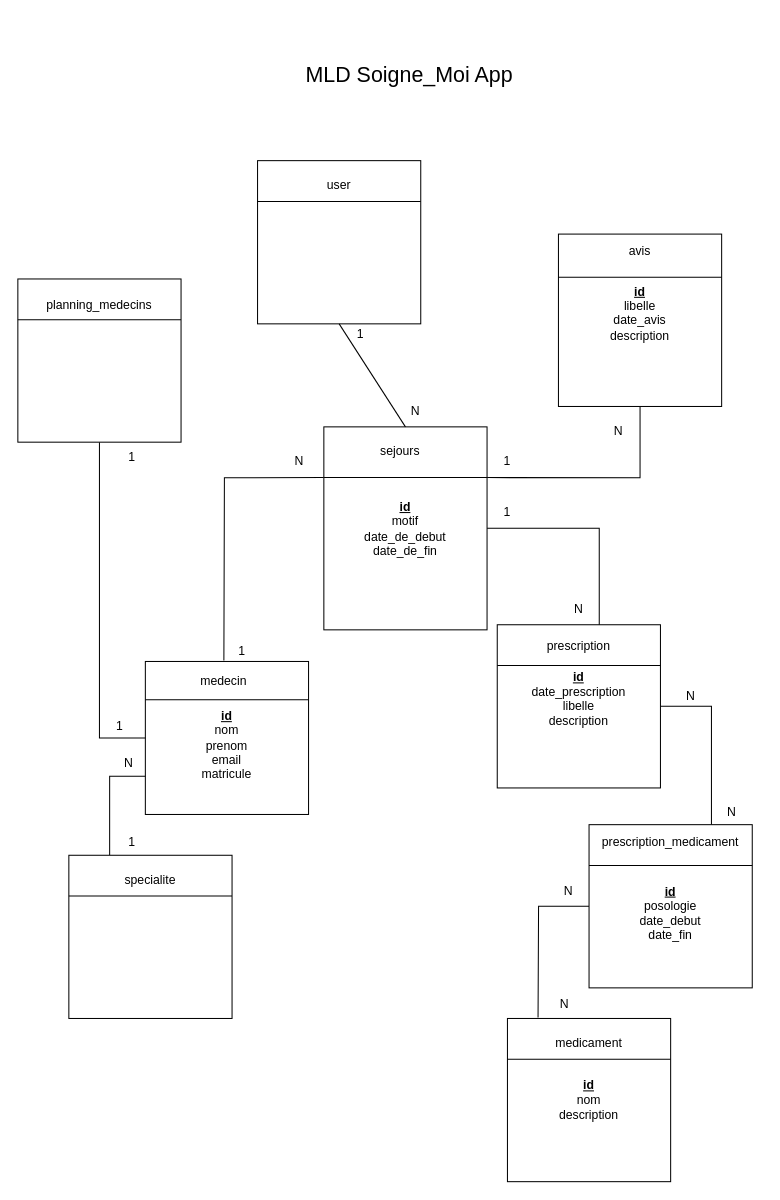
Some shapes in this 780 by 1200 pixel diagram are drawn without their labels. The shapes that lost their labels are listed below. From the top down, each one's box as (x1, y1, x2, y2) in pixels, then its label:
(257, 160, 421, 324): id nom prenom email password adresse_postale
(17, 278, 181, 442): id date_i nombre_patients
(68, 854, 232, 1018): id name
